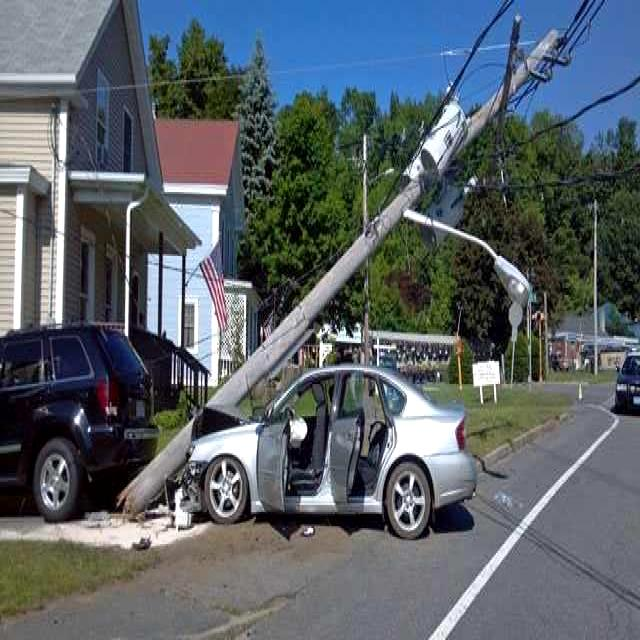Broken Pole: (123, 18, 569, 518)
